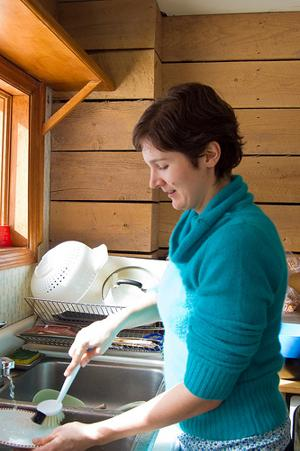person: (33, 84, 295, 451)
